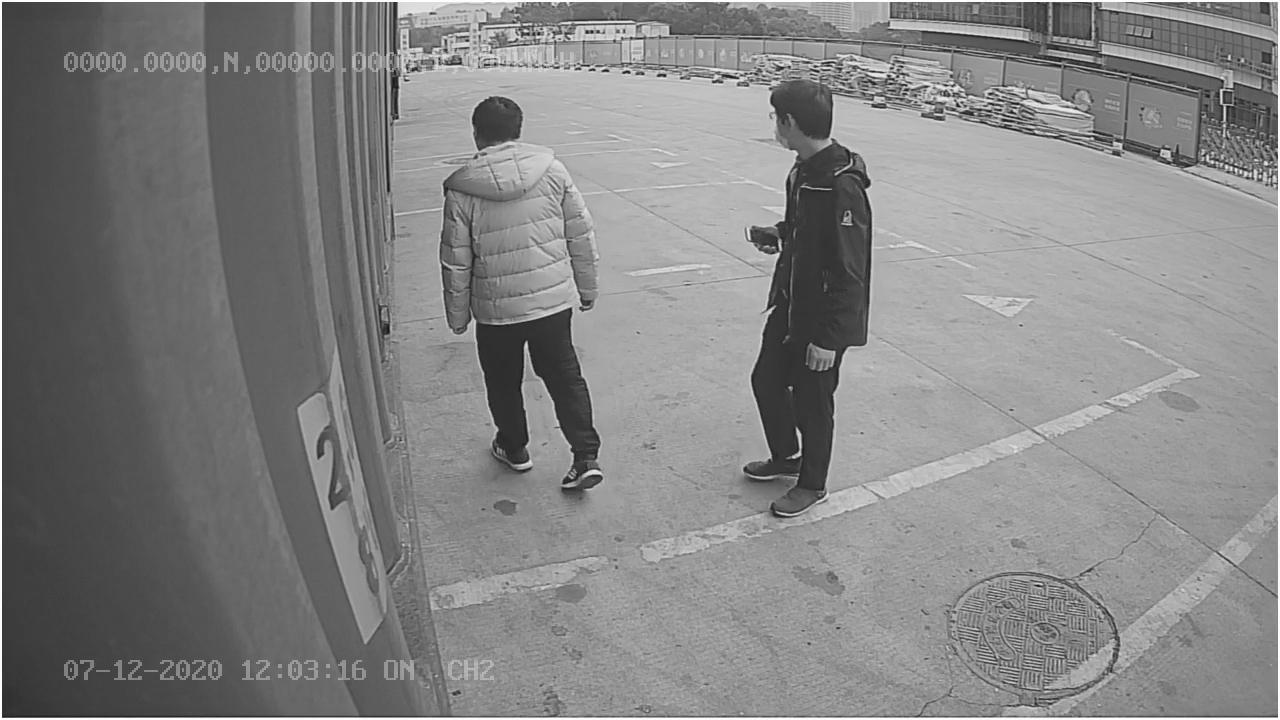person: (437, 96, 608, 501), (733, 73, 880, 517)
